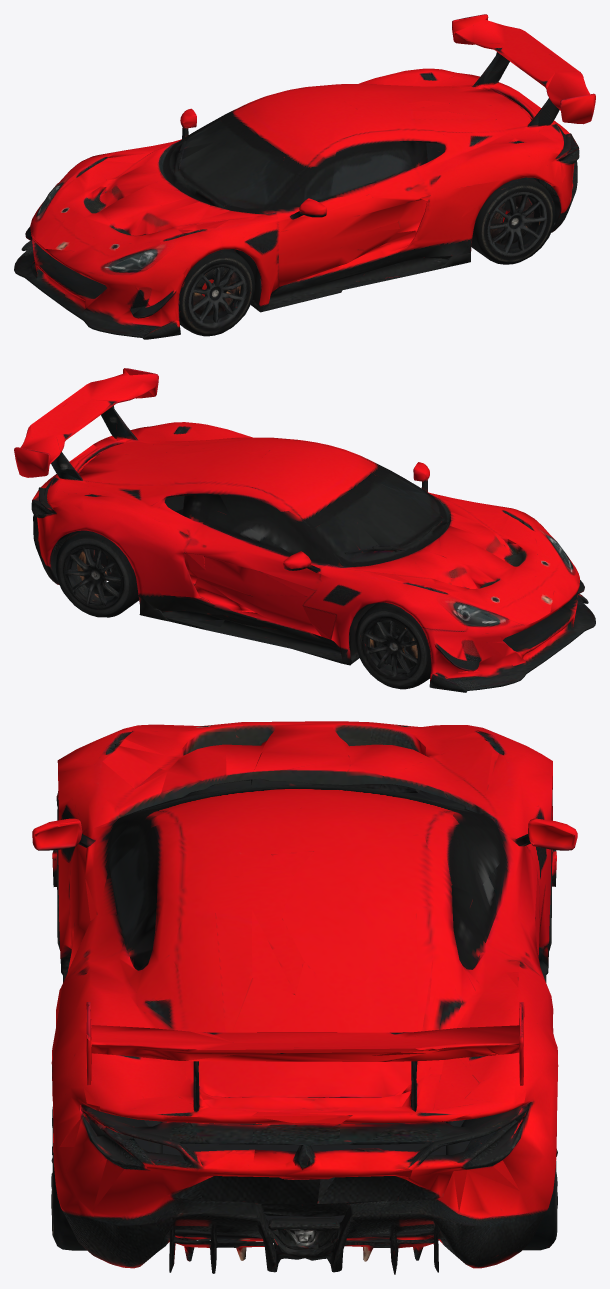
Rendered from red_race_car.fbx.
3 renders of one model, top to bottom at view 1: azimuth 30°, elevation 25°; view 2: azimuth 150°, elevation 25°; view 3: azimuth 270°, elevation 25°, orthographic. The views are drawn at different scales.
Visible parts, largest first — view 1: Mesh_0; view 2: Mesh_0; view 3: Mesh_0.
Boxes of the visible parts, x1,y1,x2,y2 form: Mesh_0: (14,14,595,339); Mesh_0: (14,368,595,692); Mesh_0: (32,721,577,1274).
Size of the model in its own units: 190 by 53.16 by 89.74.
1 material, 1 textured.
